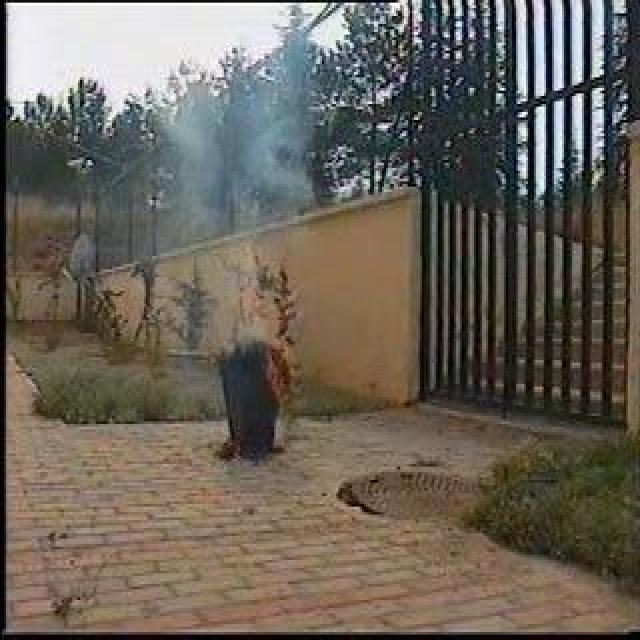fire: (270, 338, 302, 394)
smoke: (183, 129, 287, 255)
